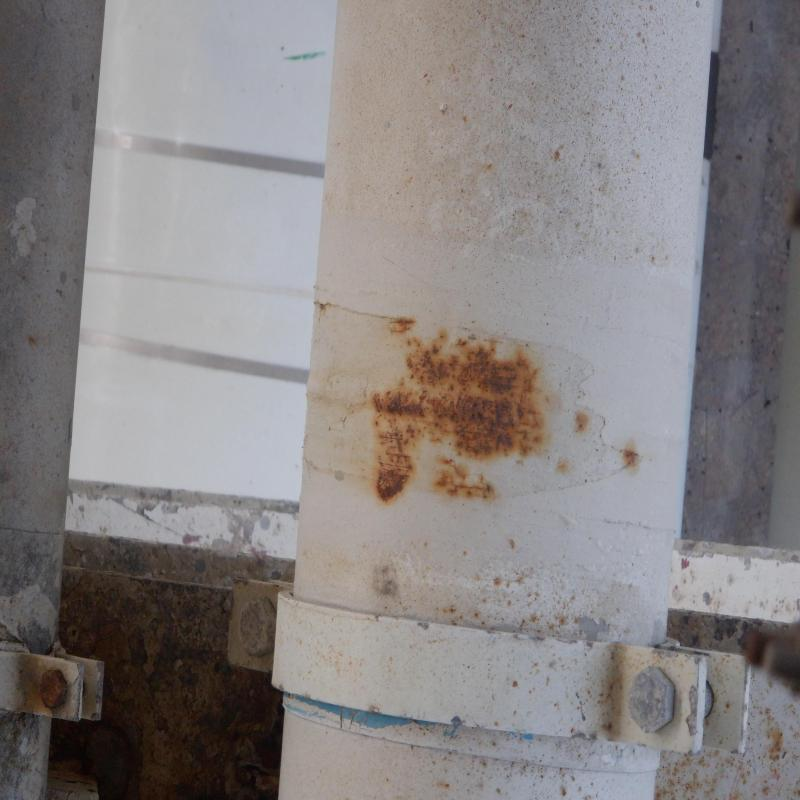corrosion: (371, 316, 556, 503)
